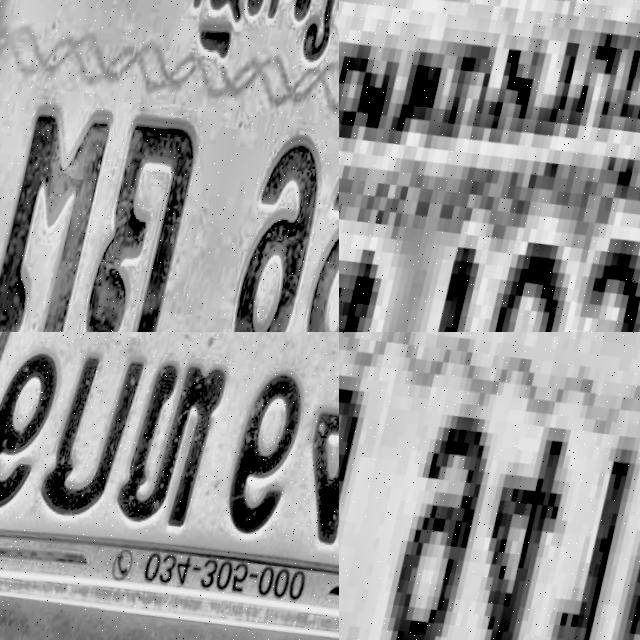license-plate: (0, 0, 339, 332), (0, 332, 339, 640), (339, 0, 640, 332), (339, 332, 640, 640)
